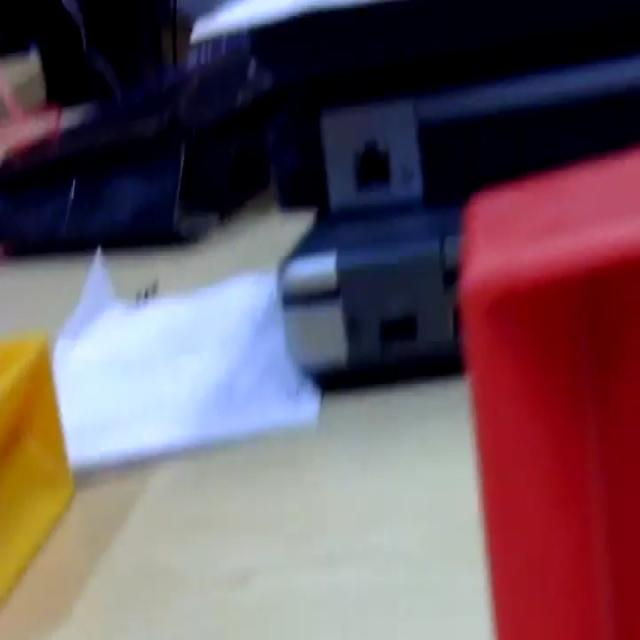red_block: (456, 141, 638, 636)
yellow_block: (0, 331, 75, 604)
